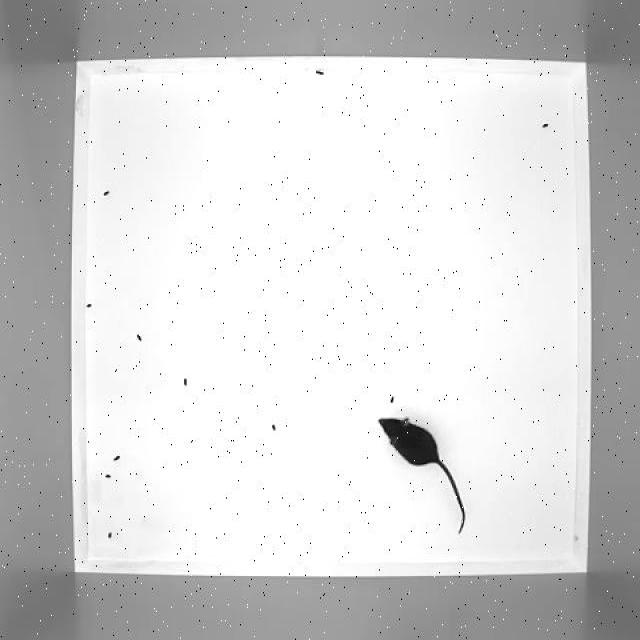rat: (376, 413, 468, 538)
